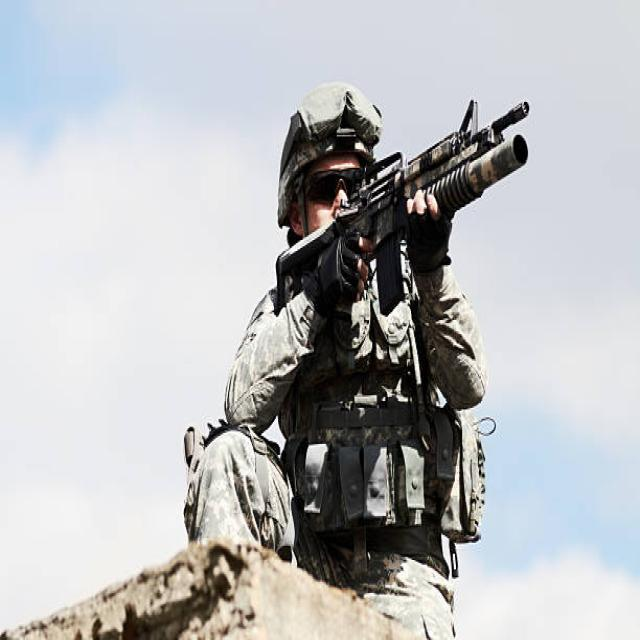soldier: (181, 81, 530, 553)
